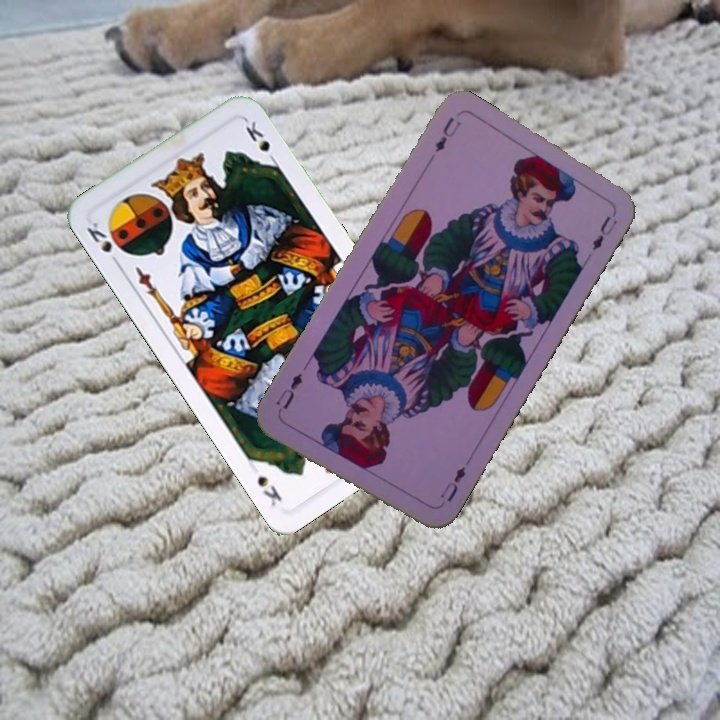EU: (436, 462, 469, 505), (431, 113, 464, 156)
SK: (82, 217, 123, 270)
